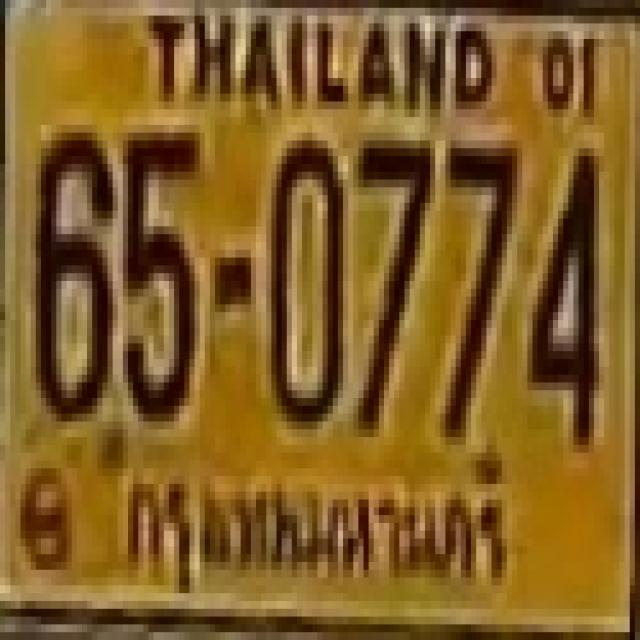0: (266, 132, 338, 422)
4: (527, 144, 594, 441)
5: (120, 125, 197, 414)
6: (31, 125, 112, 414)
7: (353, 133, 430, 429), (438, 141, 514, 437)
BKK: (112, 461, 521, 602)
